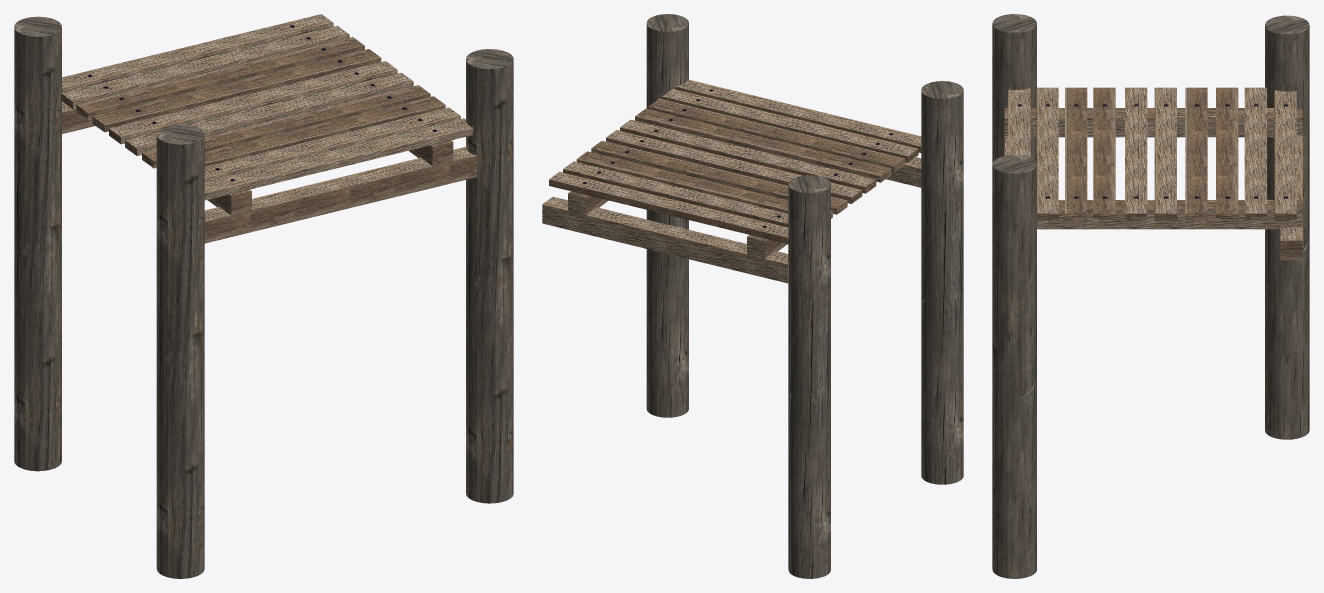
File: Plataforma madera 4to C.fbx
3 renders of one model, left to right at view 1: azimuth 30°, elevation 25°; view 2: azimuth 150°, elevation 25°; view 3: azimuth 270°, elevation 25°, orthographic. The views are drawn at different scales.
Visible parts, largest first — view 1: Soporte_piso, Piso_Maderas4x4, Poste_Madera; view 2: Piso_Maderas4x4, Soporte_piso, Poste_Madera, Viga_Madera; view 3: Piso_Maderas4x4, Soporte_piso, Poste_Madera, Viga_Madera.
Boxes of the visible parts, x1,y1,x2,y2 form: Soporte_piso: (156,49,513,578); Piso_Maderas4x4: (61,14,473,215); Poste_Madera: (14,16,61,471); Piso_Maderas4x4: (549,79,921,258); Soporte_piso: (646,14,963,484); Poste_Madera: (788,175,830,578); Viga_Madera: (542,196,788,283); Piso_Maderas4x4: (1004,87,1302,229); Soporte_piso: (992,14,1036,578); Poste_Madera: (1265,15,1309,439); Viga_Madera: (1280,135,1302,260).
Bounding box in the file's own units: 507 × 600 × 426.
Materials: 4 (3 with a texture image).
